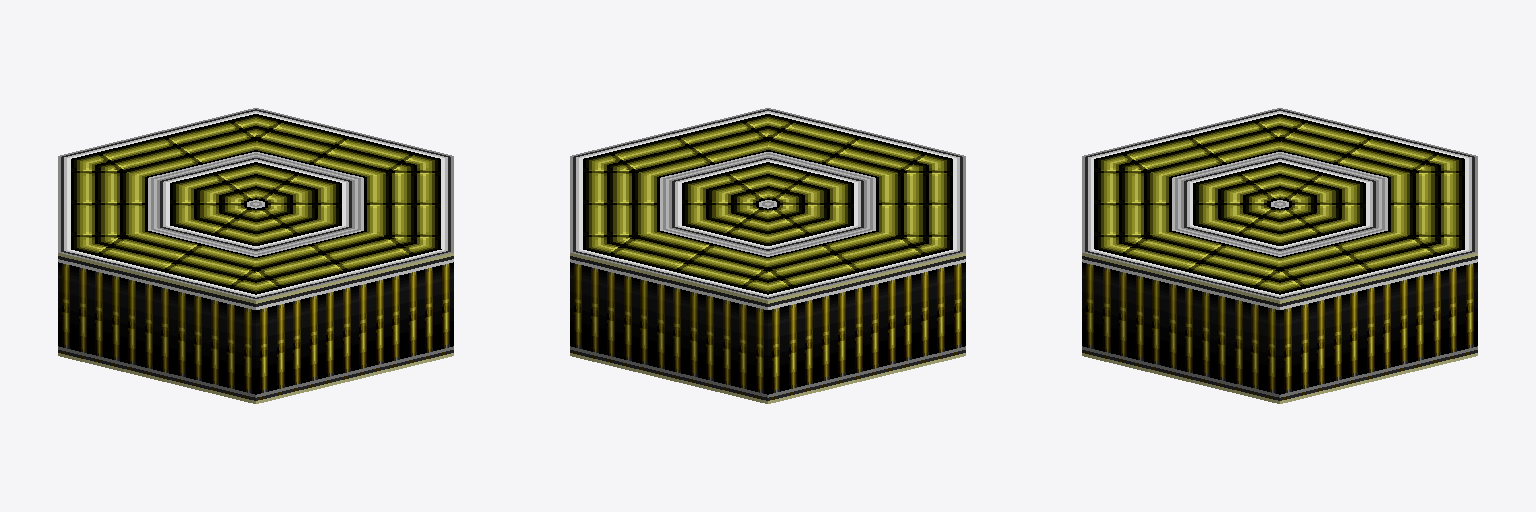
The picture shows the model from 3 angles: view 1: azimuth 30°, elevation 25°; view 2: azimuth 150°, elevation 25°; view 3: azimuth 270°, elevation 25°; orthographic projection.
Visible parts, largest first — view 1: world_root; view 2: world_root; view 3: world_root.
Boxes of the visible parts, x1,y1,x2,y2 form: world_root: [58, 108, 453, 403]; world_root: [570, 108, 965, 403]; world_root: [1082, 108, 1477, 403].
Size of the model in its own units: 75 by 18.75 by 64.95.
2 materials, 2 textured.